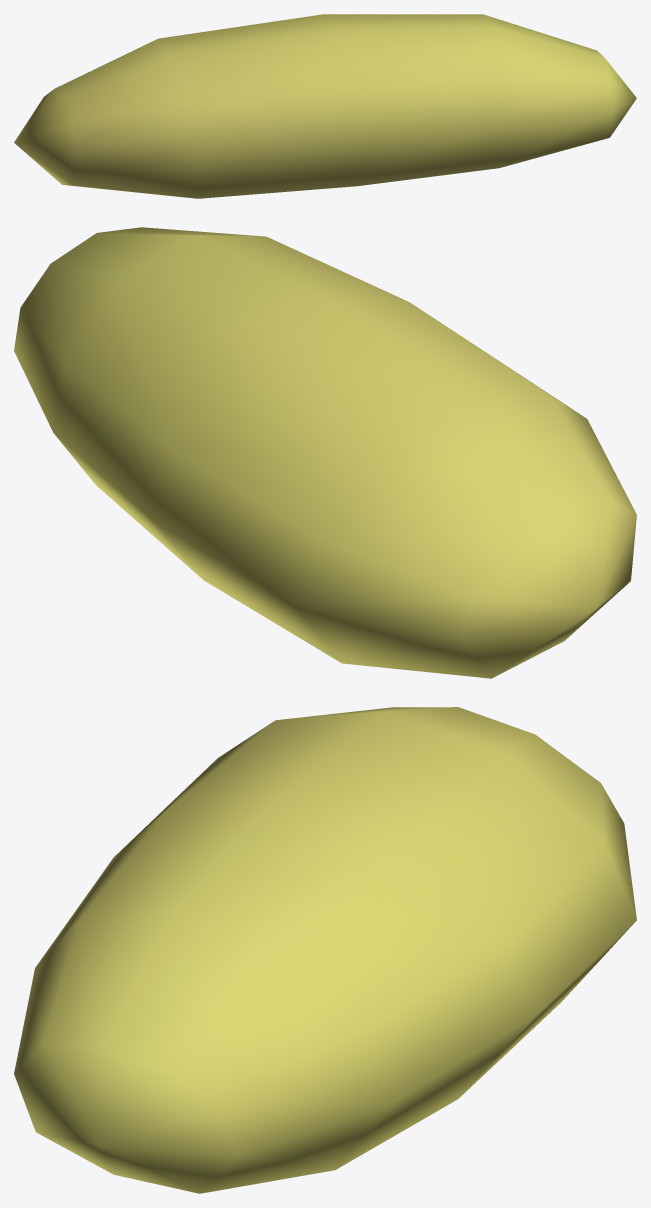
The model's file is PC_Woman_Eyebrow002_L.glb.
3 views of the same model, one above another, from view 1: azimuth 30°, elevation 25°; view 2: azimuth 150°, elevation 25°; view 3: azimuth 270°, elevation 25° (orthographic). The views are drawn at different scales.
Parts seen in each view (by area): view 1: PC_Woman_Eyebrow002_L_mesh; view 2: PC_Woman_Eyebrow002_L_mesh; view 3: PC_Woman_Eyebrow002_L_mesh.
Boxes of the visible parts, box(x1,y1,x2,y2) form: PC_Woman_Eyebrow002_L_mesh: box(14, 14, 636, 198); PC_Woman_Eyebrow002_L_mesh: box(14, 227, 636, 678); PC_Woman_Eyebrow002_L_mesh: box(14, 707, 636, 1193).
Bounding box in the file's own units: 0.1244 × 0.0398 × 0.0801.
Materials: 1 (1 with a texture image).
